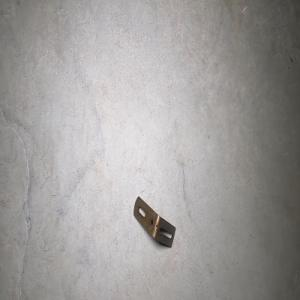MetalPart: (132, 195, 176, 248)
